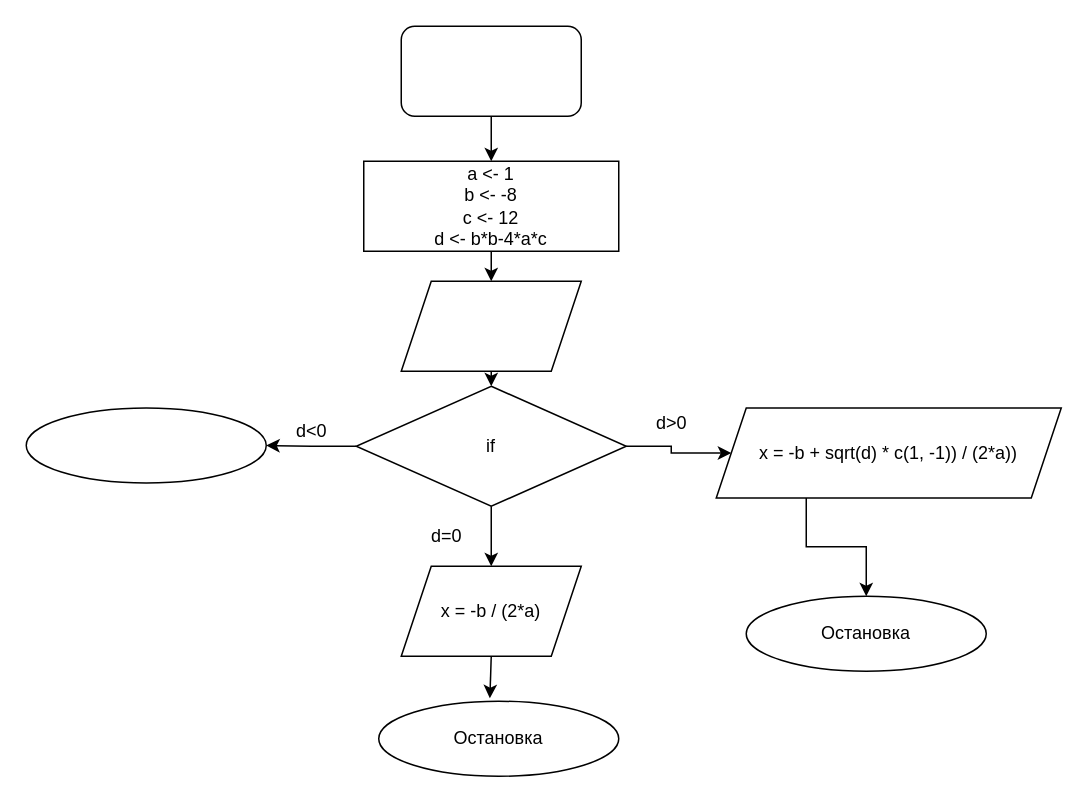
The diagram is 1088 pixels wide and 803 high, and some of its shapes have lost their labels. Each missing label, with the box of its shape:
d <- b*b-4*a*c: (400, 280, 581, 371)
Korney net: (25, 406, 266, 483)
начало: (400, 25, 581, 116)
